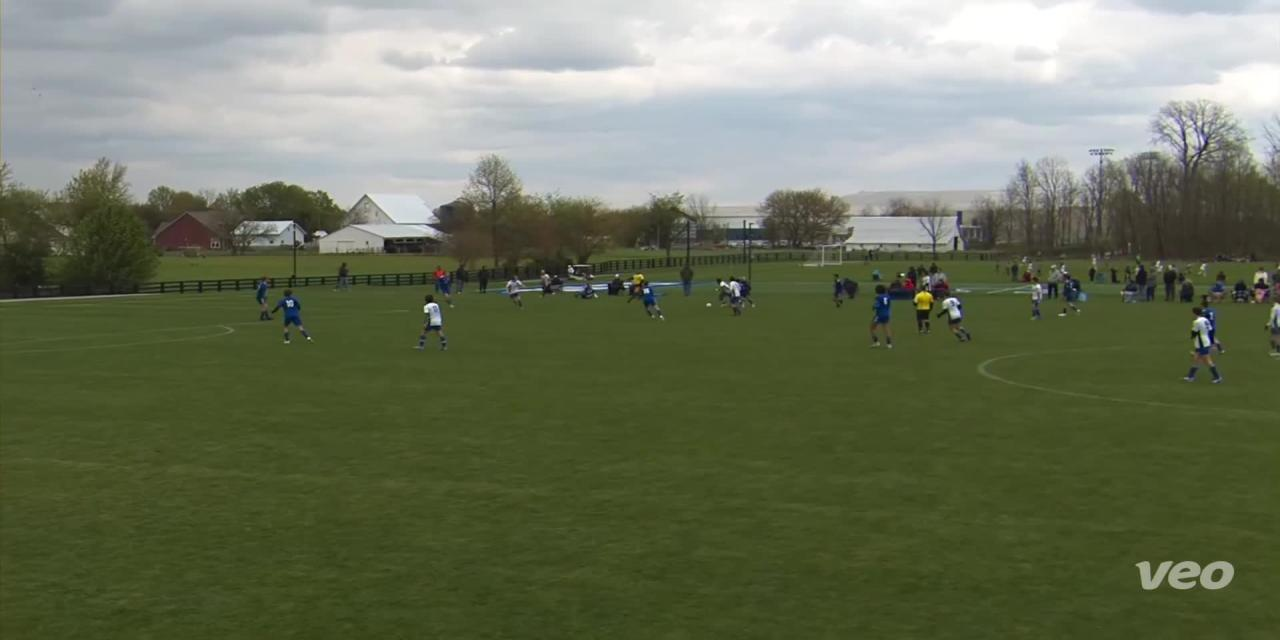sports ball: (701, 298, 717, 310)
